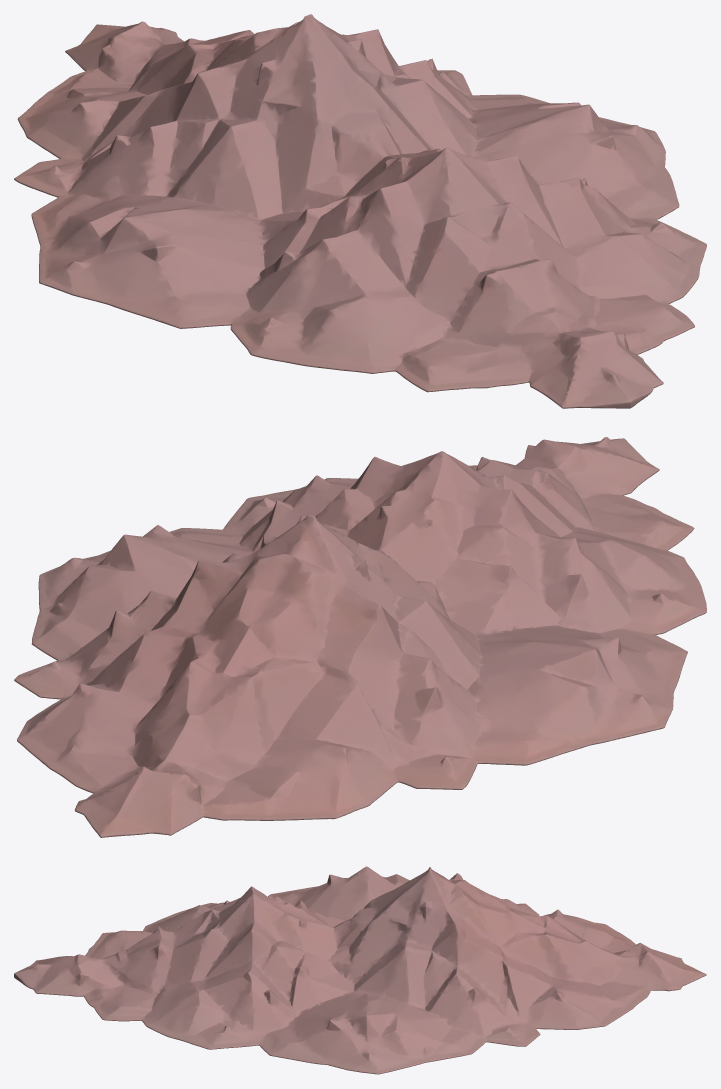
The model's file is low-poly+mountains+3d+model.glb.
The picture shows the model from 3 angles, top to bottom: view 1: azimuth 30°, elevation 25°; view 2: azimuth 150°, elevation 25°; view 3: azimuth 270°, elevation 25°; orthographic projection. The views are drawn at different scales.
Parts seen in each view (by area): view 1: tripo_node_f28c81ff-40c8-4cff-8218-bfd28a215e79; view 2: tripo_node_f28c81ff-40c8-4cff-8218-bfd28a215e79; view 3: tripo_node_f28c81ff-40c8-4cff-8218-bfd28a215e79.
Part boxes in pixels (x1,y1,x2,y2): tripo_node_f28c81ff-40c8-4cff-8218-bfd28a215e79: (14, 14, 706, 408); tripo_node_f28c81ff-40c8-4cff-8218-bfd28a215e79: (14, 437, 706, 837); tripo_node_f28c81ff-40c8-4cff-8218-bfd28a215e79: (14, 866, 706, 1074).
Bounding box in the file's own units: 0.6765 × 0.1725 × 1.
Materials: 1 (1 with a texture image).
